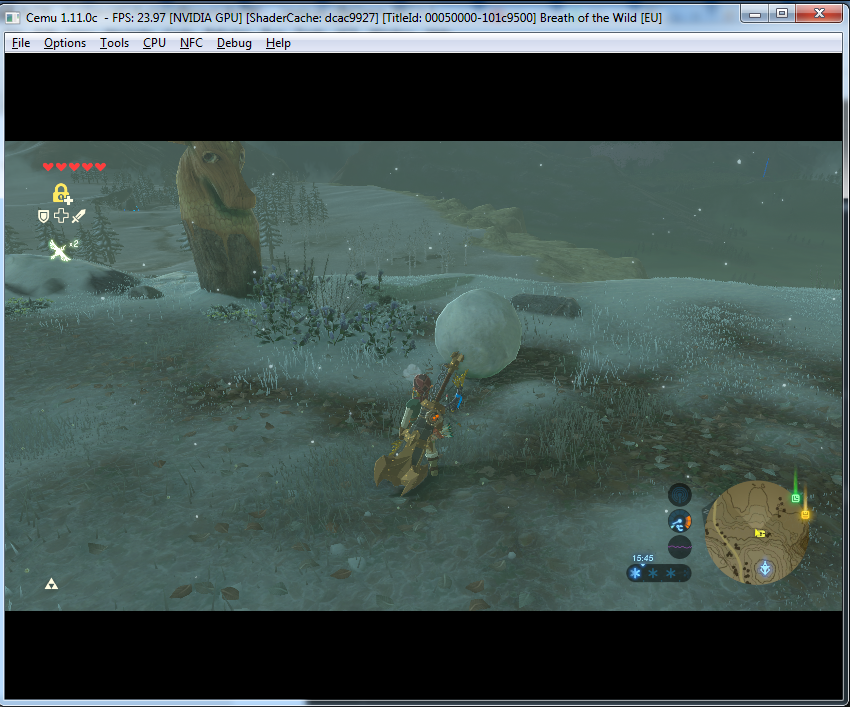link: (367, 348, 471, 493)
snowball: (419, 286, 525, 380)
totem: (171, 139, 277, 295)
